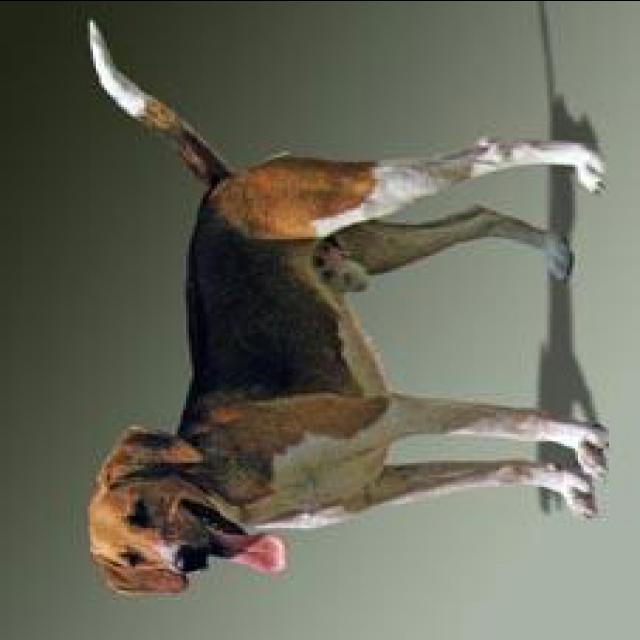beagle: (82, 22, 600, 600)
